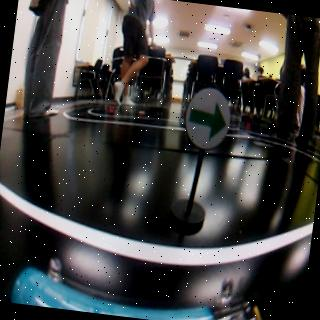right: (182, 85, 234, 152)
